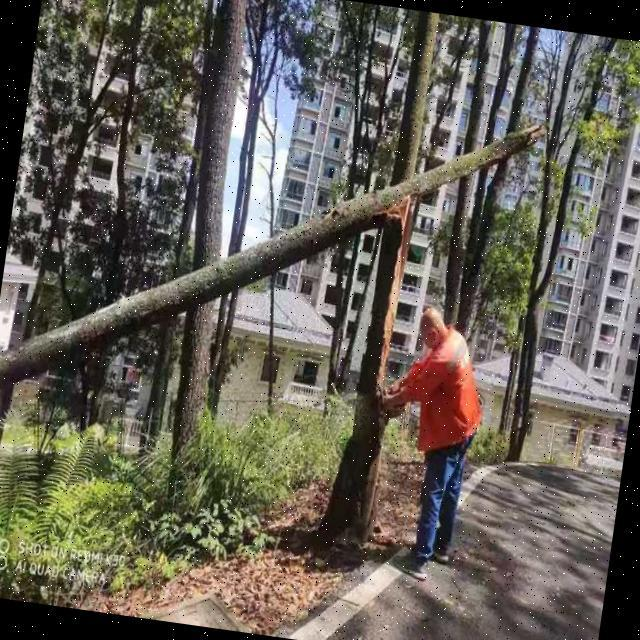fallen_object: (0, 48, 551, 467)
